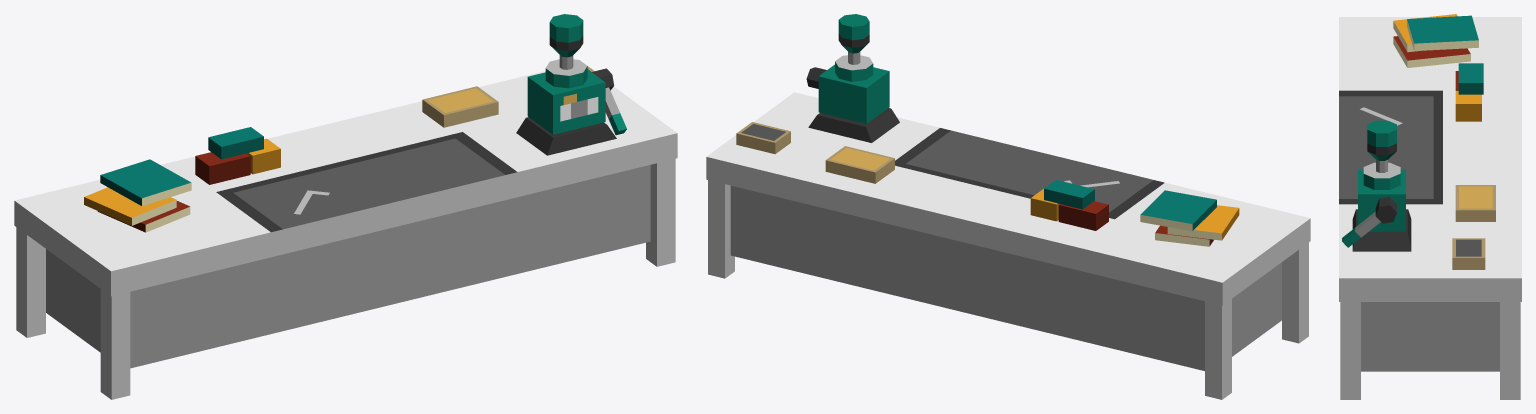
File: ce_ammobench.obj
3 views of the same model, side by side, from view 1: azimuth 30°, elevation 25°; view 2: azimuth 150°, elevation 25°; view 3: azimuth 270°, elevation 25° (orthographic). The views are drawn at different scales.
Visible parts, largest first — view 1: ce_ammobench_top, ce_ammobench_body, ce_ammobench_press, ce_ammobench_leg_sw, ce_ammobench_leg_nw, ce_ammobench_leg_se, ce_ammobench_book_teal, ce_ammobench_tray_brass, ce_ammobench_foot, ce_ammobench_book_orange, ce_ammobench_box_red, ce_ammobench_box_teal (+2 smaller); view 2: ce_ammobench_top, ce_ammobench_body, ce_ammobench_press, ce_ammobench_leg_nw, ce_ammobench_leg_sw, ce_ammobench_leg_ne, ce_ammobench_book_teal, ce_ammobench_tray_brass, ce_ammobench_foot, ce_ammobench_tray_powder, ce_ammobench_book_orange, ce_ammobench_box_red (+3 smaller); view 3: ce_ammobench_top, ce_ammobench_body, ce_ammobench_press, ce_ammobench_book_teal, ce_ammobench_leg_se, ce_ammobench_leg_ne, ce_ammobench_tray_brass, ce_ammobench_foot, ce_ammobench_book_red, ce_ammobench_tray_powder, ce_ammobench_box_teal, ce_ammobench_box_orange (+1 smaller).
Boxes of the visible parts, bbox=[...] form: ce_ammobench_top: bbox=[14, 71, 677, 296]; ce_ammobench_body: bbox=[46, 165, 650, 368]; ce_ammobench_press: bbox=[527, 14, 626, 135]; ce_ammobench_leg_sw: bbox=[100, 289, 130, 399]; ce_ammobench_leg_nw: bbox=[16, 227, 45, 337]; ce_ammobench_leg_se: bbox=[646, 158, 675, 266]; ce_ammobench_book_teal: bbox=[100, 159, 191, 205]; ce_ammobench_tray_brass: bbox=[422, 86, 498, 127]; ce_ammobench_foot: bbox=[516, 117, 616, 155]; ce_ammobench_book_orange: bbox=[84, 187, 176, 225]; ce_ammobench_box_red: bbox=[195, 152, 250, 184]; ce_ammobench_box_teal: bbox=[208, 127, 263, 159]; ce_ammobench_top: bbox=[706, 92, 1310, 305]; ce_ammobench_body: bbox=[730, 185, 1281, 370]; ce_ammobench_press: bbox=[806, 14, 889, 123]; ce_ammobench_leg_nw: bbox=[1205, 299, 1231, 399]; ce_ammobench_leg_sw: bbox=[1282, 242, 1308, 343]; ce_ammobench_leg_ne: bbox=[708, 180, 734, 278]; ce_ammobench_book_teal: bbox=[1140, 190, 1216, 231]; ce_ammobench_tray_brass: bbox=[825, 146, 894, 183]; ce_ammobench_foot: bbox=[808, 108, 899, 142]; ce_ammobench_tray_powder: bbox=[736, 122, 790, 154]; ce_ammobench_book_orange: bbox=[1167, 205, 1239, 240]; ce_ammobench_box_red: bbox=[1058, 201, 1108, 230]; ce_ammobench_top: bbox=[1339, 17, 1521, 301]; ce_ammobench_body: bbox=[1361, 302, 1499, 371]; ce_ammobench_press: bbox=[1342, 120, 1405, 247]; ce_ammobench_book_teal: bbox=[1407, 15, 1478, 50]; ce_ammobench_leg_se: bbox=[1340, 302, 1360, 399]; ce_ammobench_leg_ne: bbox=[1500, 302, 1520, 399]; ce_ammobench_tray_brass: bbox=[1455, 185, 1495, 221]; ce_ammobench_foot: bbox=[1352, 209, 1411, 251]; ce_ammobench_book_red: bbox=[1393, 36, 1470, 67]; ce_ammobench_tray_powder: bbox=[1452, 238, 1485, 269]; ce_ammobench_box_teal: bbox=[1458, 63, 1483, 94]; ce_ammobench_box_orange: bbox=[1455, 90, 1481, 121].
Size of the model in its own units: 2.84 by 1.18 by 0.84.
